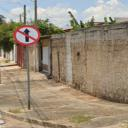NoSeguir: (12, 26, 42, 46)
